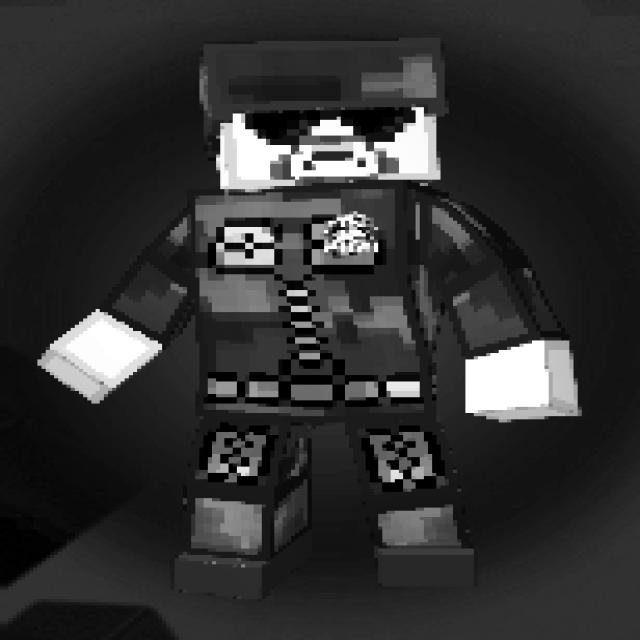Head: (200, 40, 447, 188)
Player: (34, 37, 582, 603)
